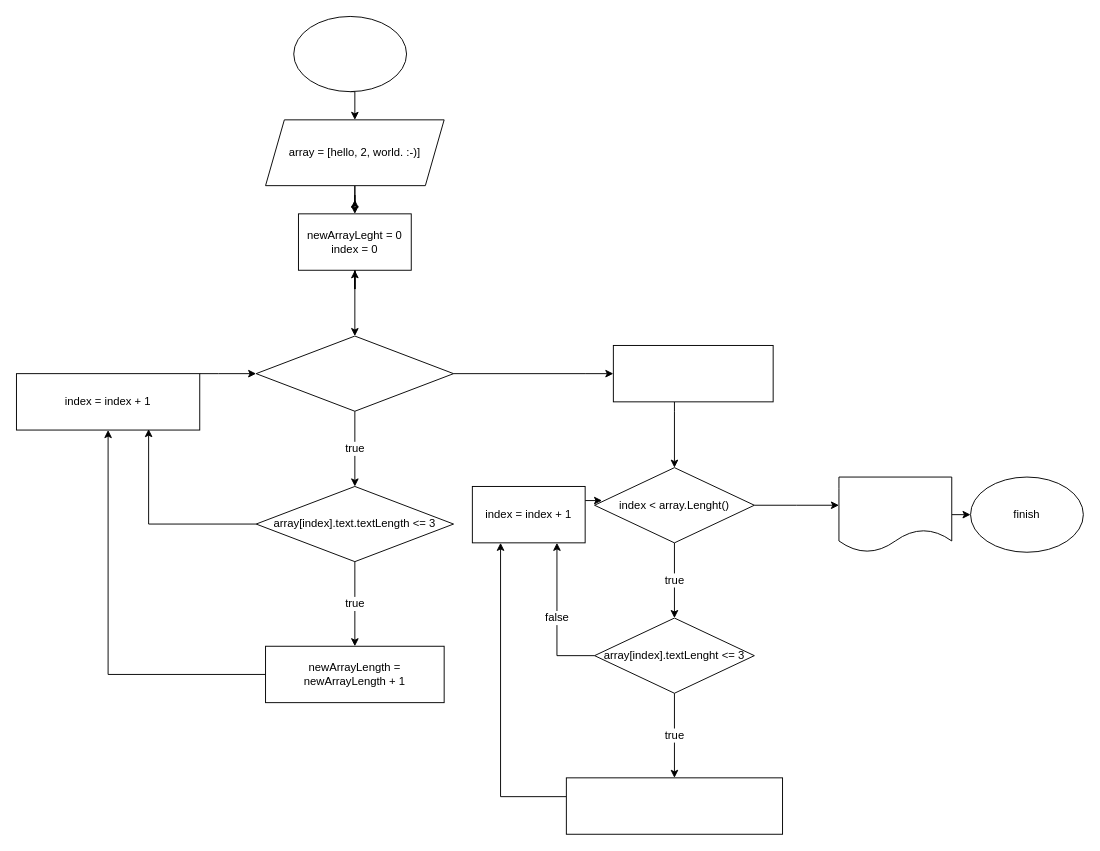
Some shapes in this 1100 by 851 pixel diagram are drawn without their labels. Here are the shapes that lost their labels. From the top down, the centre of each, then its label:
(x=350, y=54): start
(x=354, y=373): index < array.leight()
(x=692, y=373): newArray = [newArrayLength] index = 0 newindex = 0
(x=895, y=514): print newArray
(x=674, y=805): newArray[index] = array[newIndex] newIndex = newIndex + 1
